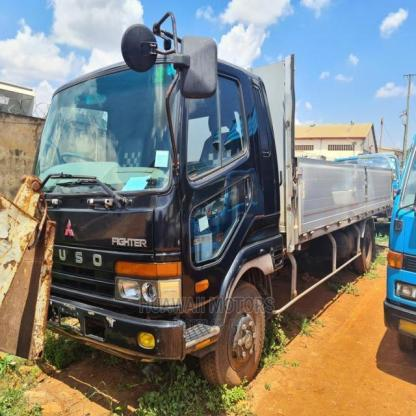truck: (25, 14, 394, 388)
